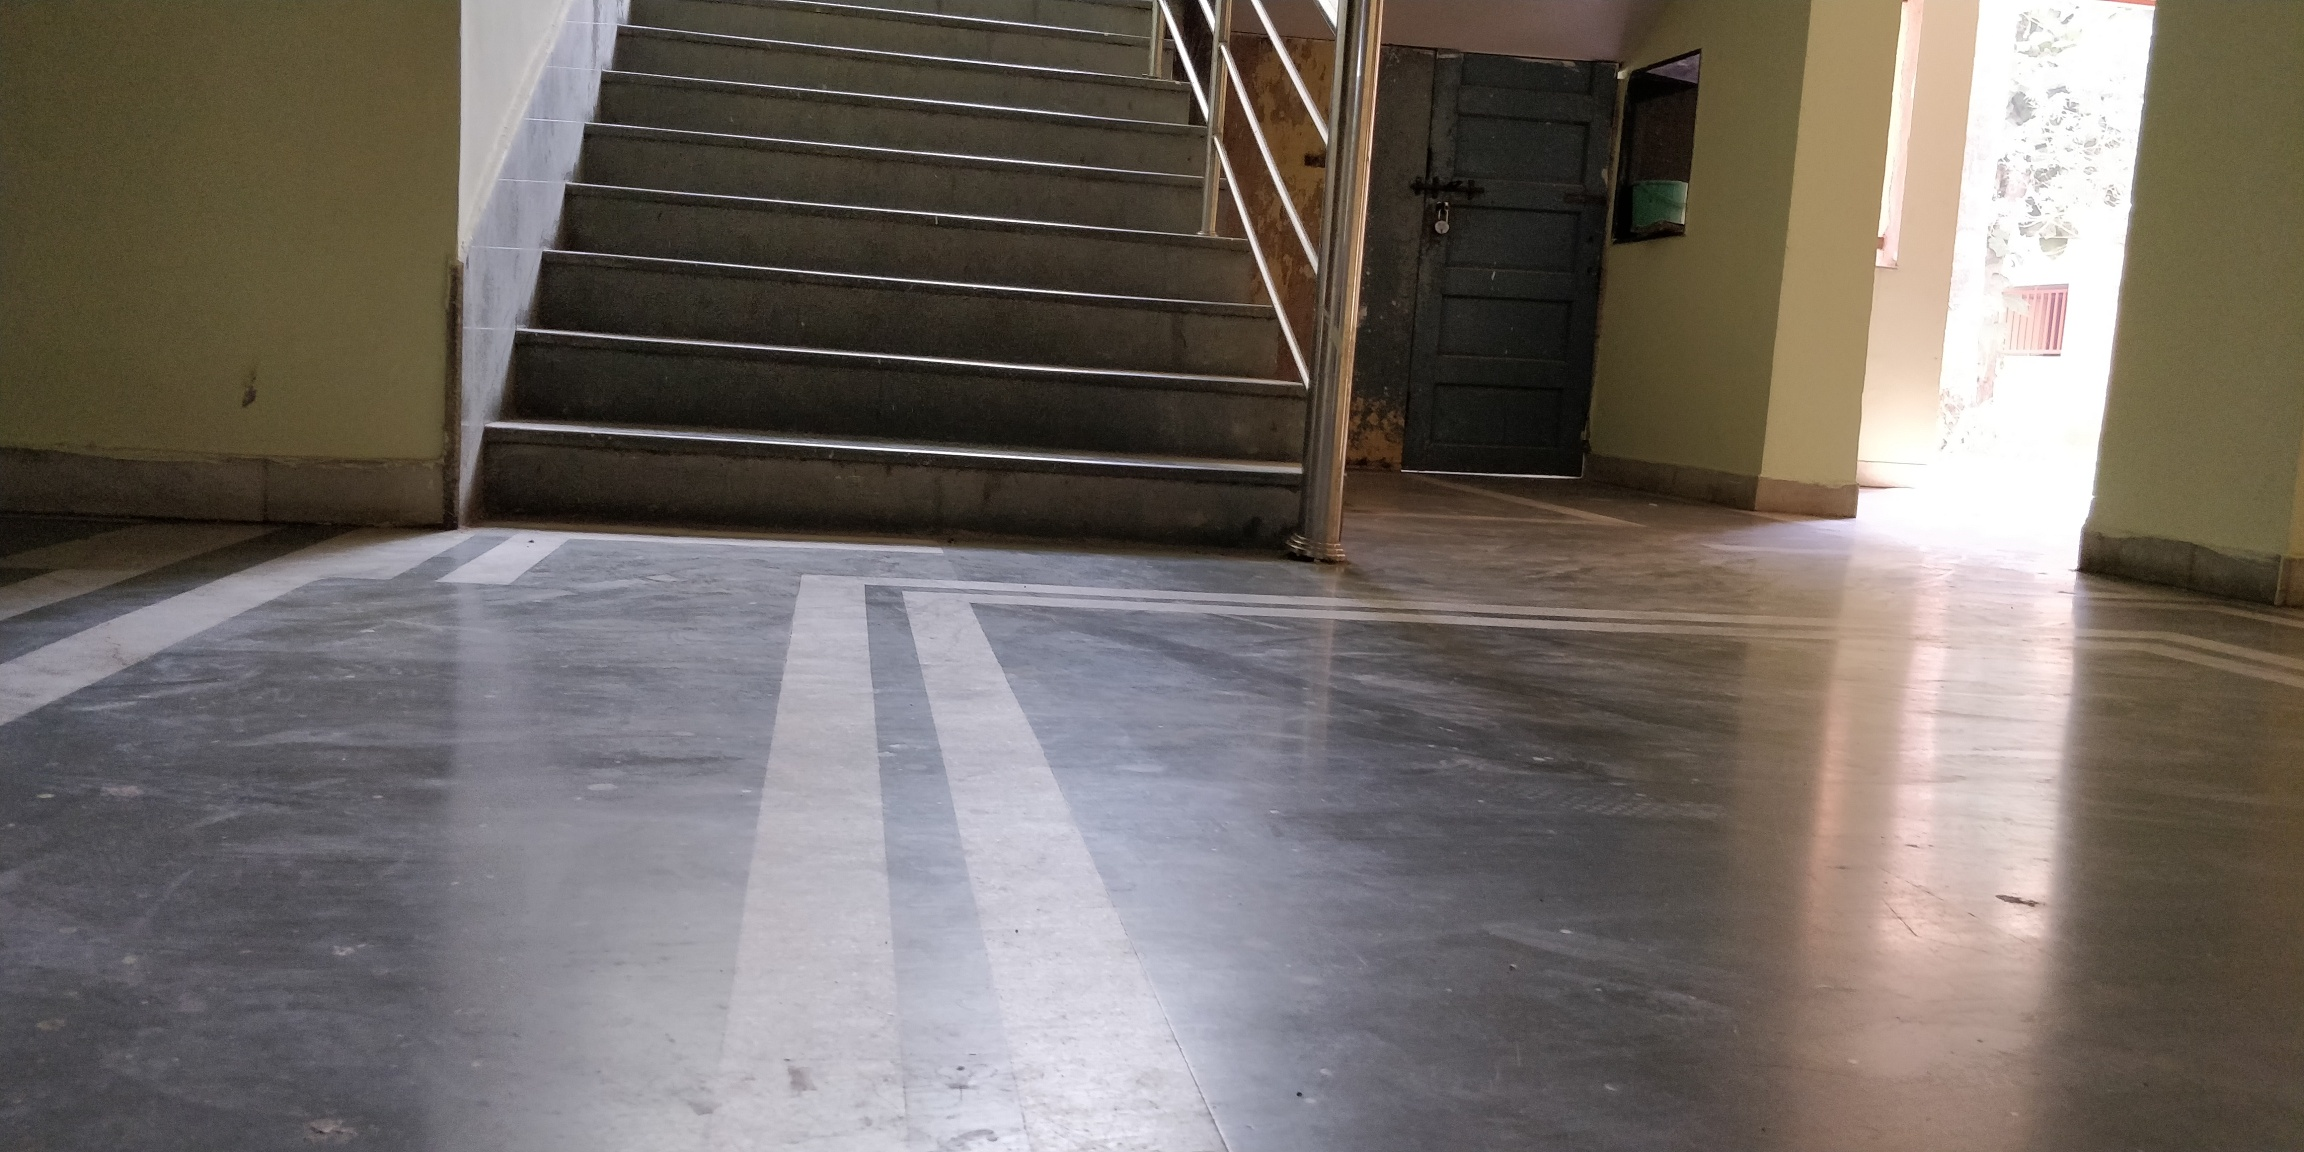stairs_up: (458, 4, 1274, 517)
